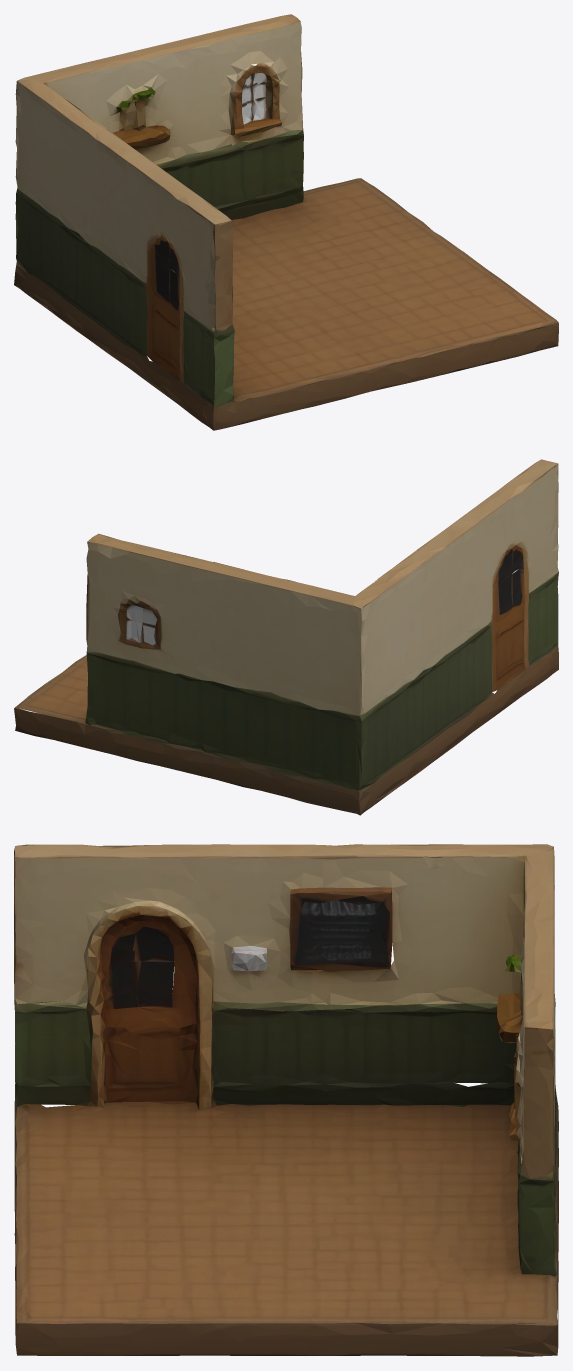
File: env_room_foyer1.glb
3 views of the same model, one above another, from view 1: azimuth 30°, elevation 25°; view 2: azimuth 150°, elevation 25°; view 3: azimuth 270°, elevation 25° (orthographic). The views are drawn at different scales.
Visible parts, largest first — view 1: geometry_0.024; view 2: geometry_0.024; view 3: geometry_0.024.
Boxes of the visible parts, <box> form: geometry_0.024: <box>14,14,558,430</box>; geometry_0.024: <box>14,459,558,815</box>; geometry_0.024: <box>14,844,558,1356</box>.
Bounding box in the file's own units: 7.58 × 4.32 × 7.56.
1 material, 1 textured.
